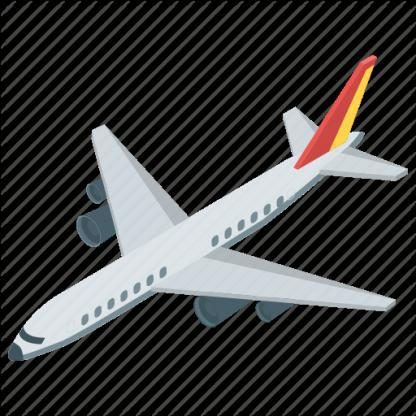CIV_Plane: (6, 51, 408, 367)
